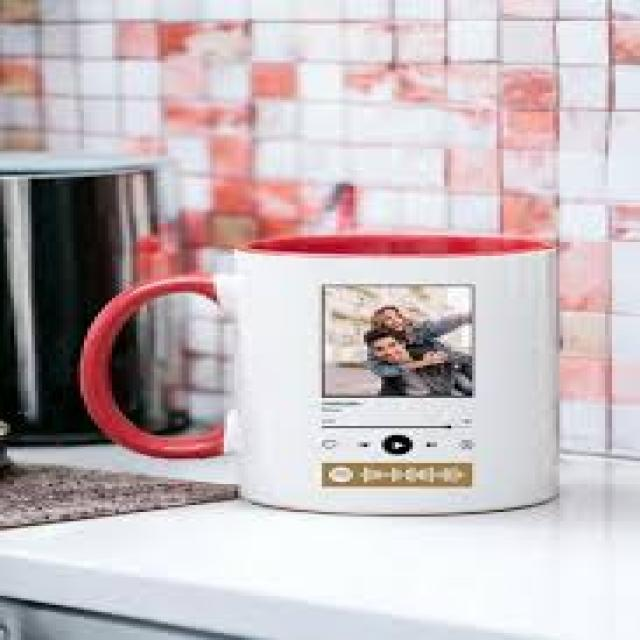taza: (78, 233, 557, 514)
